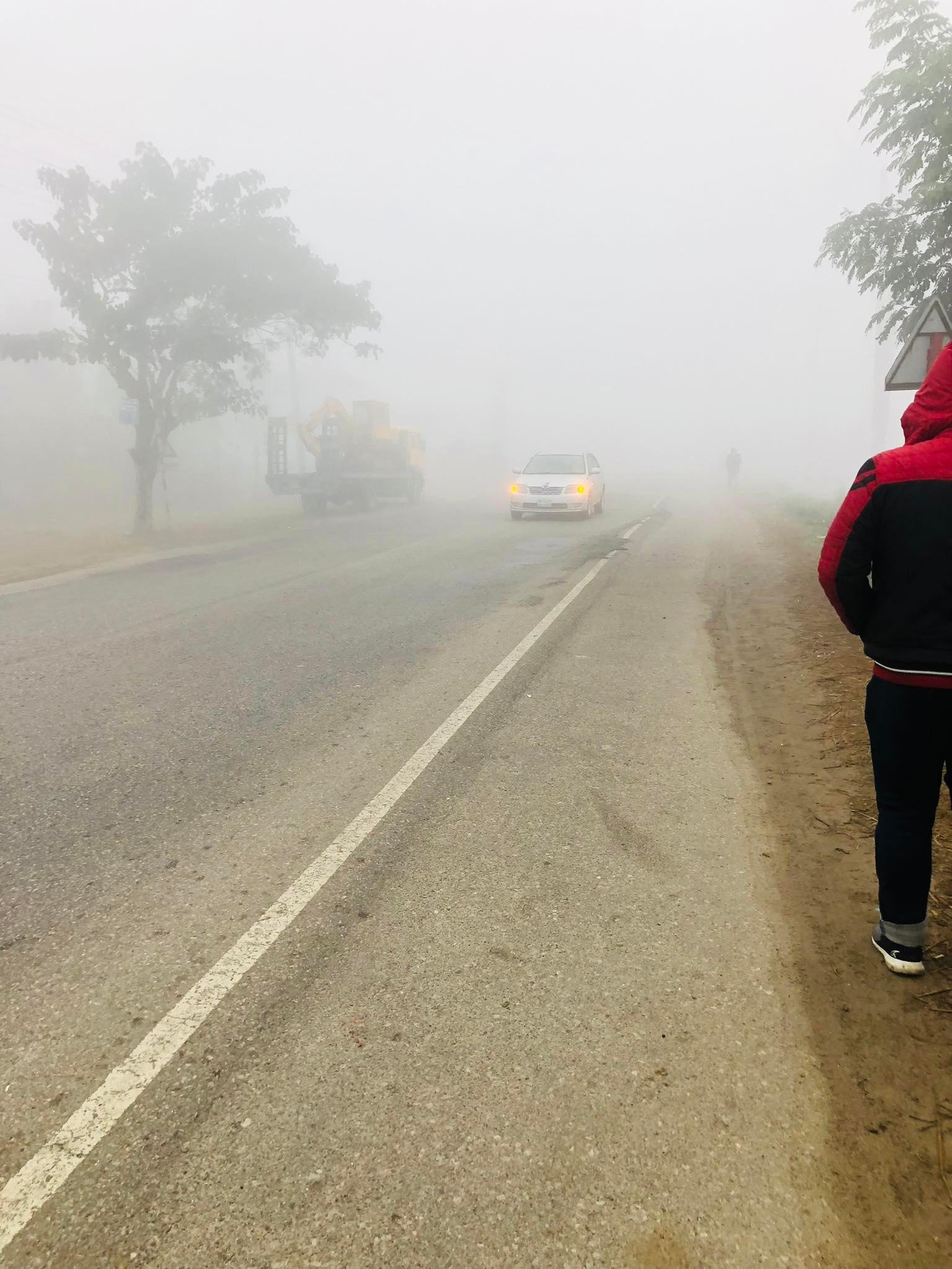Car: (494, 435, 637, 527)
Truck: (271, 385, 452, 534)
